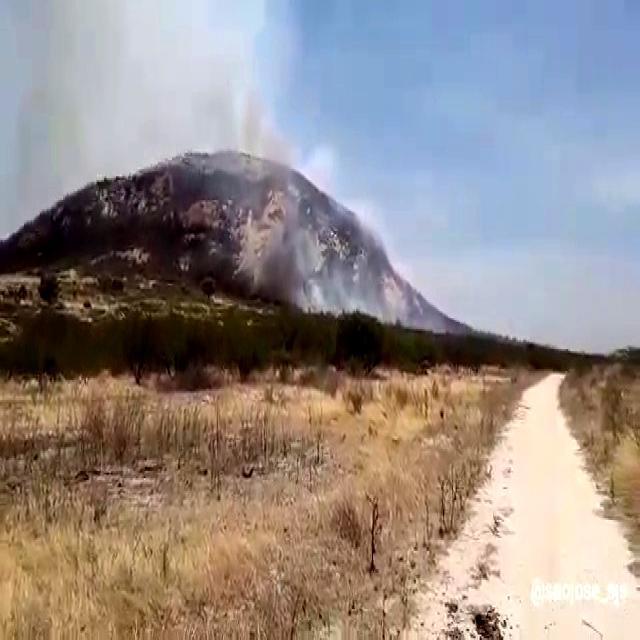Smoke: (72, 0, 274, 170), (250, 189, 328, 317)
